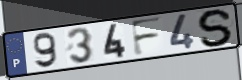3: (65, 26, 95, 66)
4: (168, 13, 198, 51), (103, 22, 128, 60)
9: (32, 31, 59, 69)
F: (129, 15, 164, 58)
S: (196, 8, 235, 48)
